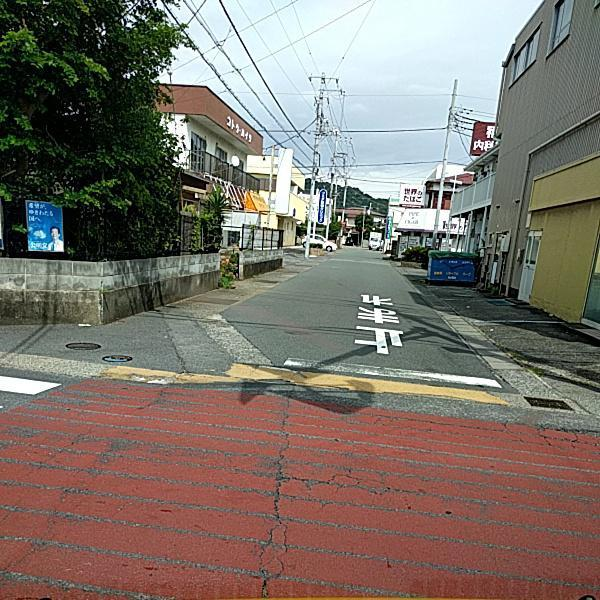D50: (95, 352, 136, 363), (67, 339, 100, 349)
